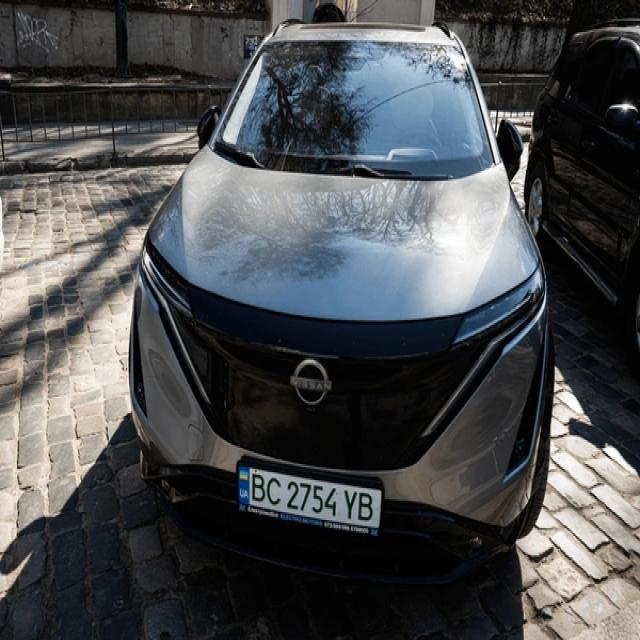nissan: (286, 360, 334, 411)
